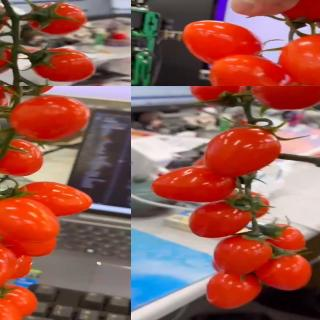tomato: (202, 122, 280, 176), (11, 97, 92, 147), (183, 20, 266, 65), (151, 163, 238, 203), (10, 180, 95, 218), (0, 196, 63, 242), (213, 235, 274, 276), (188, 201, 253, 239), (212, 55, 288, 86), (28, 49, 96, 83), (257, 252, 313, 293), (206, 271, 261, 311), (28, 0, 88, 35), (279, 35, 320, 86), (0, 137, 44, 177), (251, 86, 320, 111), (228, 191, 272, 223), (0, 284, 40, 317), (264, 225, 308, 255), (188, 86, 247, 108), (0, 239, 18, 291), (0, 298, 24, 320), (0, 86, 57, 95), (0, 38, 13, 76)
